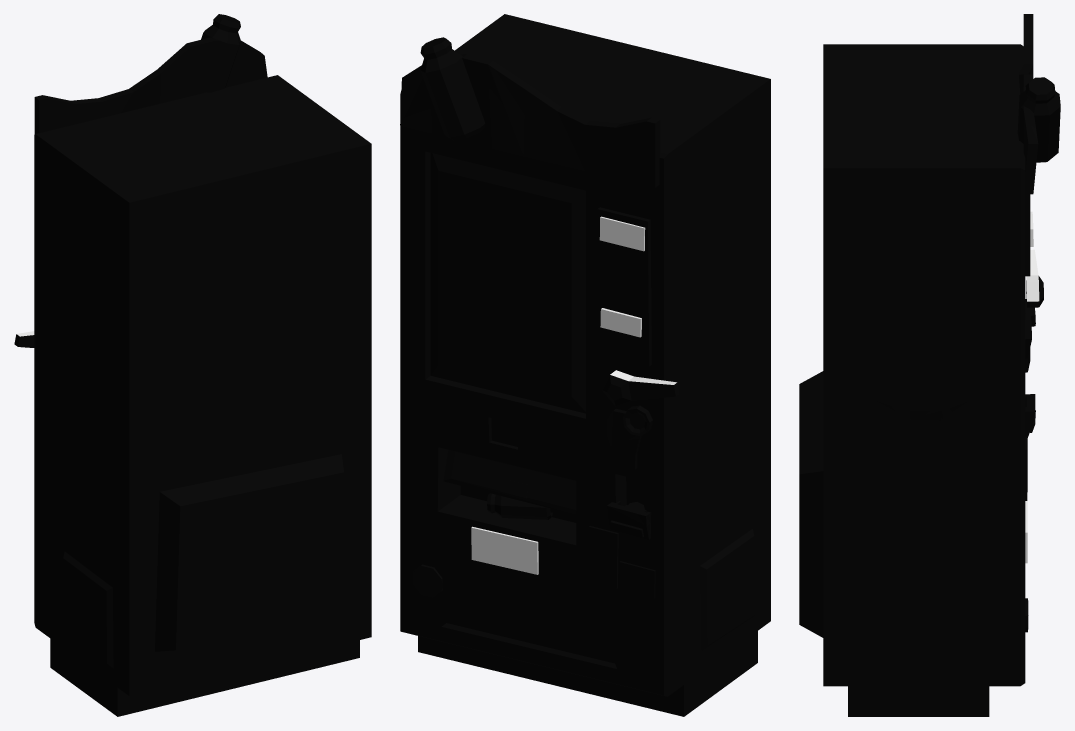
The model's file is pp_vending_machine.fbx.
3 renders of one model, left to right at view 1: azimuth 30°, elevation 25°; view 2: azimuth 150°, elevation 25°; view 3: azimuth 270°, elevation 25°, orthographic. The views are drawn at different scales.
Parts seen in each view (by area): view 1: pp_vending_machine_LOD0; view 2: pp_vending_machine_LOD0; view 3: pp_vending_machine_LOD0.
Boxes of the visible parts, box(x1,y1,x2,y2) form: pp_vending_machine_LOD0: box(14, 14, 371, 716); pp_vending_machine_LOD0: box(400, 14, 770, 716); pp_vending_machine_LOD0: box(799, 14, 1060, 716).
Size of what is drawn, in the model's own units: 0.8732 by 1.9 by 0.7326.
Materials: 1 (1 with a texture image).
